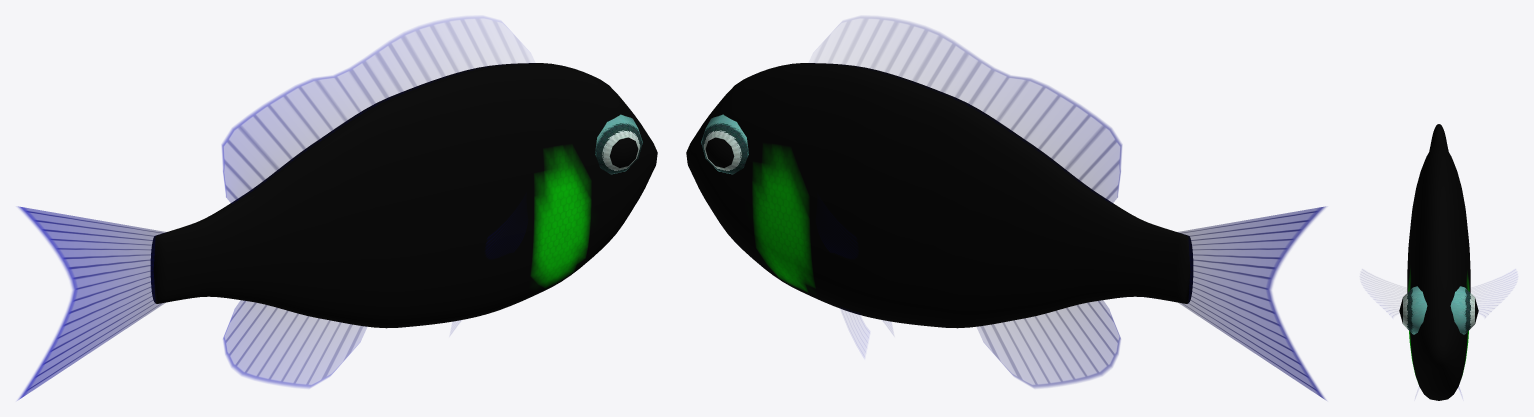
The model's file is chromis.glb.
The picture shows the model from 3 angles, left to right: view 1: azimuth 30°, elevation 25°; view 2: azimuth 150°, elevation 25°; view 3: azimuth 270°, elevation 25°; orthographic projection. The views are drawn at different scales.
Visible parts, largest first — view 1: Body, FinDorsal, FinCaudal, FinAnal, EyeR; view 2: Body, FinDorsal, FinCaudal, FinAnal, EyeL; view 3: Body, EyeL, EyeR.
Part boxes in pixels (box(x1,y1,x2,y2)): Body: box(150, 63, 657, 328); FinDorsal: box(222, 17, 529, 203); FinCaudal: box(17, 206, 166, 400); FinAnal: box(223, 300, 366, 387); EyeR: box(595, 114, 642, 174); Body: box(686, 63, 1193, 328); FinDorsal: box(814, 17, 1121, 203); FinCaudal: box(1177, 206, 1326, 400); FinAnal: box(977, 300, 1120, 387); EyeL: box(701, 114, 748, 174); Body: box(1407, 124, 1470, 400); EyeL: box(1450, 286, 1478, 334); EyeR: box(1399, 286, 1427, 334).
Bounding box in the file's own units: 1 × 0.5048 × 0.2639.
Materials: 4 (3 with a texture image).
